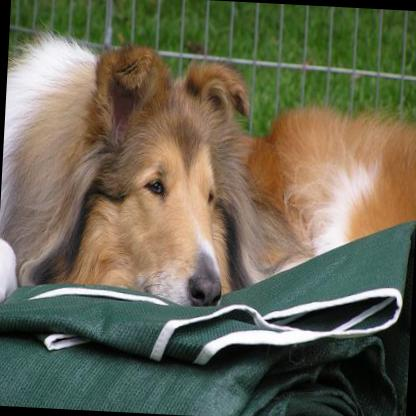collie: (0, 21, 416, 321)
